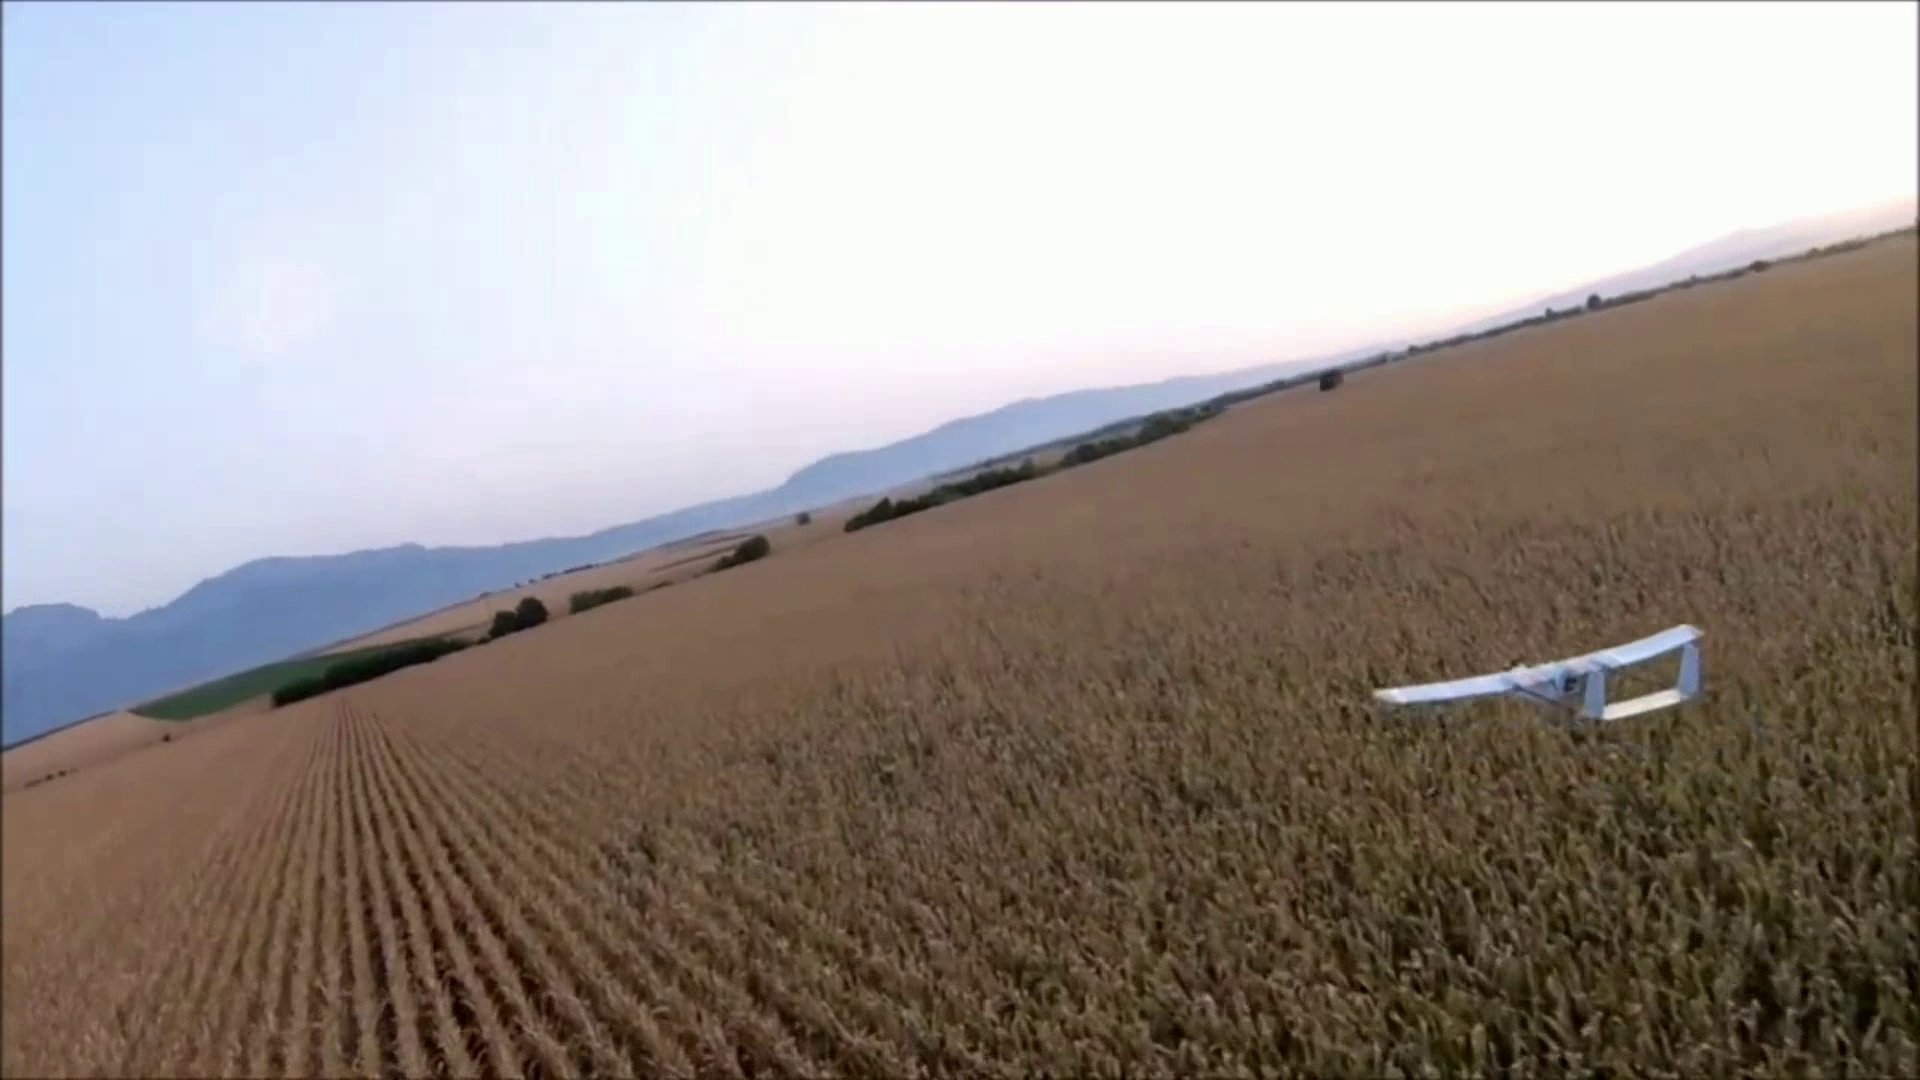airplane: (24, 228, 1898, 752), (1369, 624, 1706, 731)
